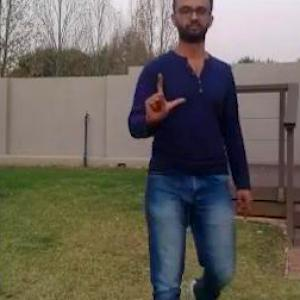land_hand: (142, 69, 188, 126)
